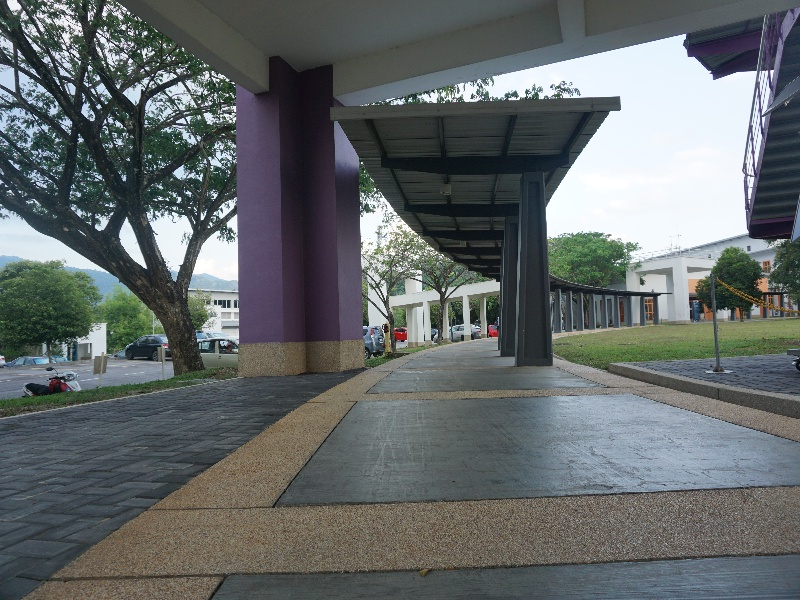pillar: (220, 40, 381, 382)
